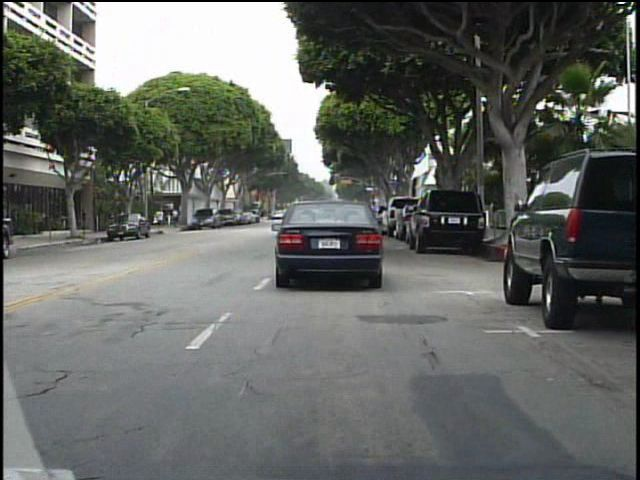person: (153, 204, 167, 232), (171, 203, 184, 230)
